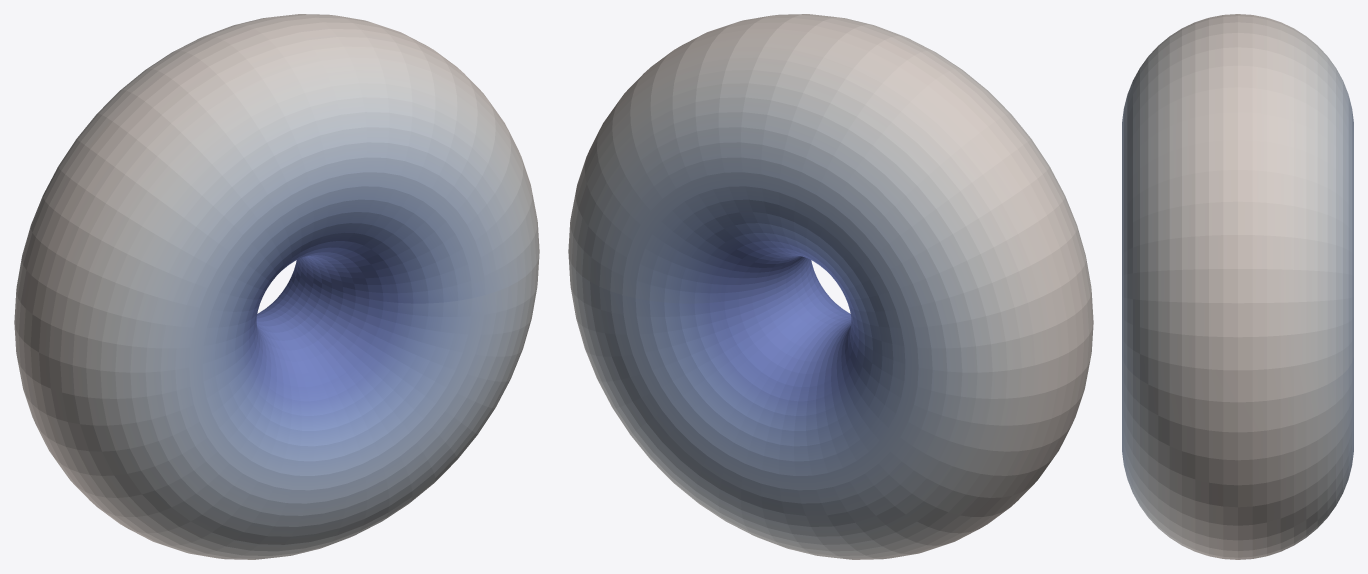
The picture shows the model from 3 angles, left to right: view 1: azimuth 30°, elevation 25°; view 2: azimuth 150°, elevation 25°; view 3: azimuth 270°, elevation 25°; orthographic projection. The views are drawn at different scales.
Visible parts, largest first — view 1: world; view 2: world; view 3: world.
Part boxes in pixels (x1,y1,x2,y2): world: [14, 14, 539, 559]; world: [568, 14, 1093, 559]; world: [1122, 14, 1353, 559].
Size of the model in its own units: 19.73 by 19.69 by 8.38.
